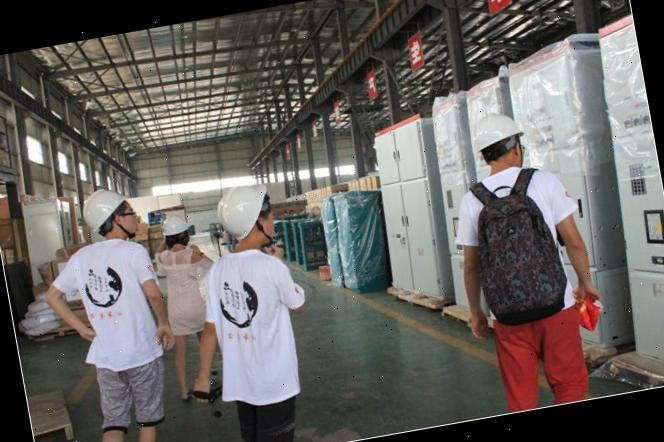helmet: (210, 176, 280, 246), (463, 106, 528, 154), (79, 185, 134, 239)
no_wear: (190, 244, 313, 421), (456, 164, 578, 334), (63, 235, 175, 379)
